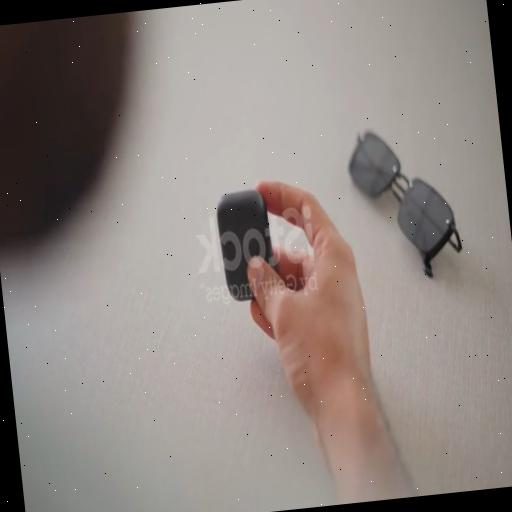earphone: (200, 176, 282, 318)
